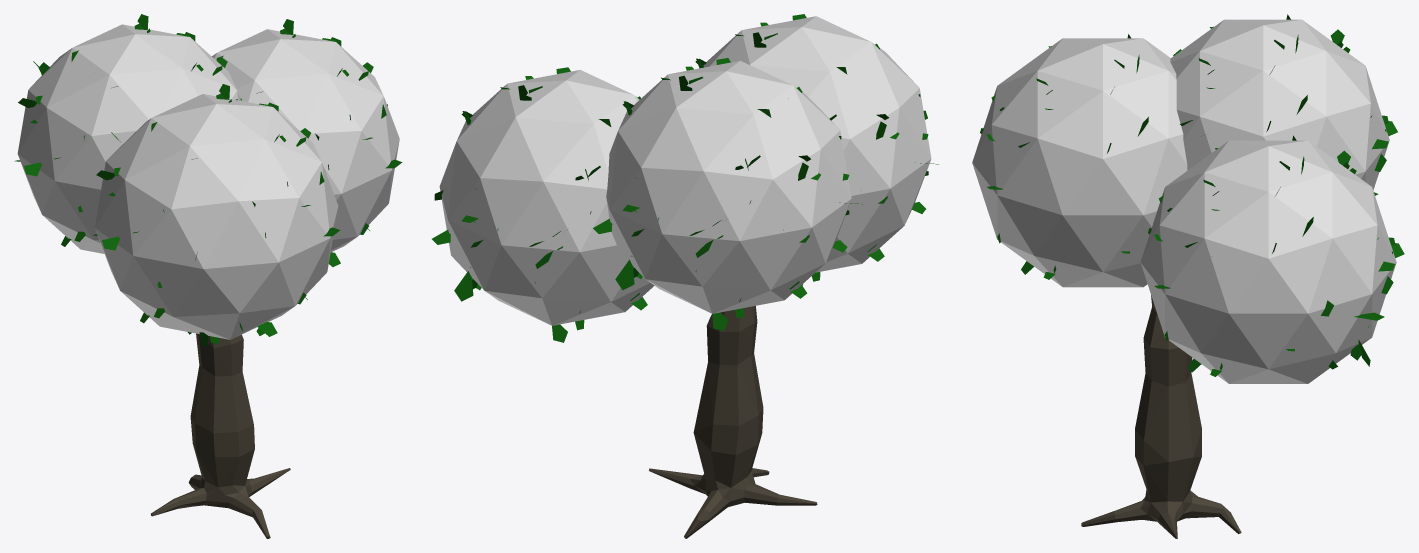
File: ArbolAc.fbx
The picture shows the model from 3 angles, left to right: view 1: azimuth 30°, elevation 25°; view 2: azimuth 150°, elevation 25°; view 3: azimuth 270°, elevation 25°; orthographic projection. The views are drawn at different scales.
Visible parts, largest first — view 1: Icosphere, Icosphere.002, Icosphere.001, TroncoAc1; view 2: Icosphere.002, Icosphere.001, Icosphere, TroncoAc1; view 3: Icosphere.001, Icosphere, Icosphere.002, TroncoAc1.
Boxes of the visible parts, x1,y1,x2,y2 form: Icosphere: [95, 94, 338, 339]; Icosphere.002: [17, 24, 240, 253]; Icosphere.001: [212, 29, 399, 252]; TroncoAc1: [151, 333, 290, 538]; Icosphere.002: [606, 60, 851, 313]; Icosphere.001: [439, 70, 654, 325]; Icosphere: [703, 16, 931, 272]; TroncoAc1: [649, 306, 817, 538]; Icosphere.001: [1140, 140, 1396, 383]; Icosphere: [972, 38, 1187, 287]; Icosphere.002: [1170, 19, 1389, 189]; TroncoAc1: [1081, 295, 1241, 538].
Size of the model in its own units: 288 by 346 by 279.
